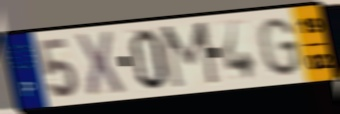0: (129, 27, 171, 92)
4: (224, 18, 259, 83)
5: (35, 35, 80, 100)
G: (256, 16, 304, 78)
M: (159, 19, 223, 92)
X: (72, 29, 127, 100)
